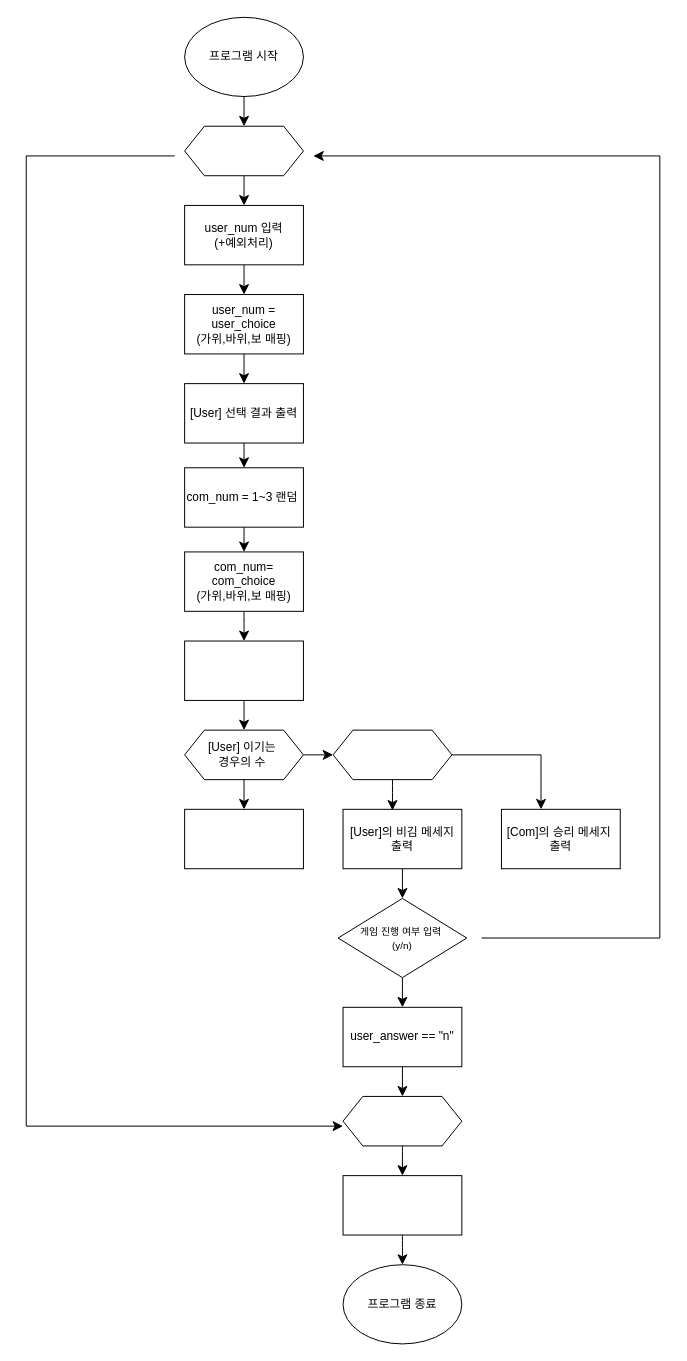
Image size: 687x1361. Some labels were removed from this diagram. The centre of each missing label's shape, as x and y in pixels:
"[Com] 선택 결과 출력" goes at [243,670].
"[User] 비기는 경우의 수" goes at [392,754].
"[User]의 승리 메세지 출력" goes at [243,838].
"paly = false" goes at [402,1120].
"paly = true" goes at [243,150].
"게임 종료 메세지 출력" goes at [402,1205].
